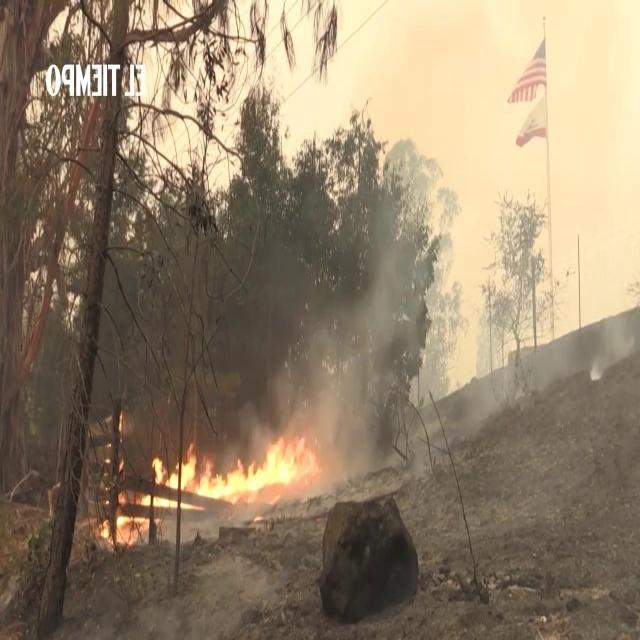Fire: (95, 431, 317, 542)
